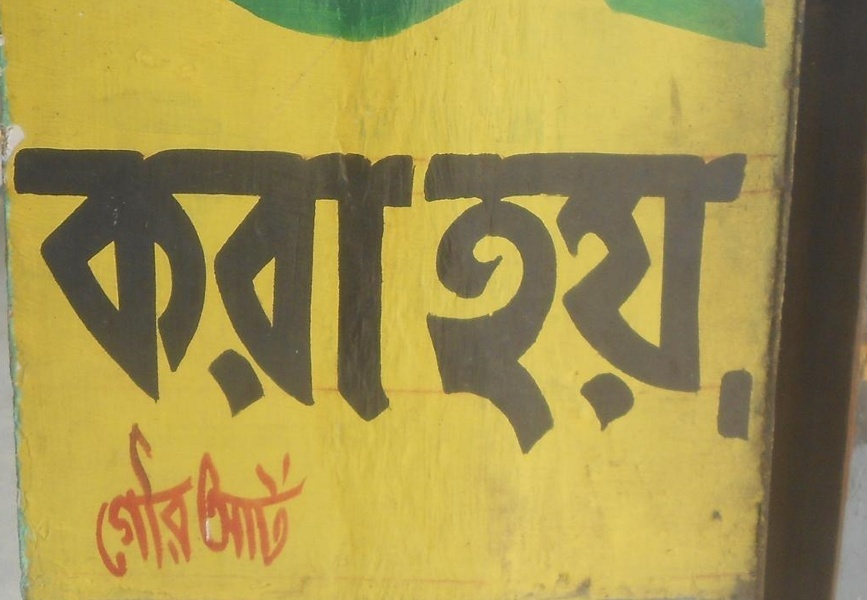text: (433, 145, 448, 463), (449, 145, 464, 463), (465, 145, 480, 463), (481, 145, 496, 463), (497, 145, 512, 463), (513, 145, 528, 463), (529, 145, 544, 463), (545, 145, 560, 463), (561, 145, 576, 463), (577, 145, 592, 463), (593, 145, 608, 463), (609, 145, 624, 463), (625, 145, 640, 463), (641, 145, 656, 463), (657, 145, 672, 463), (673, 145, 688, 463), (689, 145, 704, 463), (705, 145, 720, 463), (721, 145, 736, 463), (737, 145, 752, 463), (17, 146, 32, 427), (33, 146, 48, 427), (49, 146, 64, 427), (65, 146, 80, 427), (81, 146, 96, 427), (97, 146, 112, 427), (113, 146, 128, 427), (129, 146, 144, 427), (145, 146, 160, 427), (161, 146, 176, 427), (177, 146, 192, 427), (193, 146, 208, 427), (209, 146, 224, 427), (225, 146, 240, 427), (241, 146, 256, 427), (257, 146, 272, 427), (273, 146, 288, 427), (289, 146, 304, 427), (305, 146, 320, 427), (321, 146, 336, 427), (337, 146, 352, 427), (353, 146, 368, 427), (369, 146, 384, 427), (385, 146, 400, 427), (401, 146, 416, 427), (424, 145, 432, 463), (113, 422, 128, 583), (129, 422, 144, 583), (145, 422, 160, 583), (161, 422, 176, 583), (177, 422, 192, 583), (753, 145, 760, 463), (193, 446, 208, 573), (209, 446, 224, 573), (225, 446, 240, 573), (241, 446, 256, 573), (257, 446, 272, 573), (273, 446, 288, 573), (289, 446, 304, 573), (101, 422, 112, 583), (10, 146, 16, 427), (417, 146, 421, 427), (225, 1, 240, 60), (241, 1, 256, 60), (257, 1, 272, 60), (273, 1, 288, 60), (289, 1, 304, 60), (305, 1, 320, 60), (321, 1, 336, 60), (337, 1, 352, 60), (353, 1, 368, 60), (369, 1, 384, 60), (385, 1, 400, 60), (401, 1, 416, 60), (417, 1, 432, 60), (433, 1, 448, 60), (449, 1, 464, 60), (577, 1, 592, 53), (593, 1, 608, 53), (609, 1, 624, 53), (625, 1, 640, 53), (641, 1, 656, 53), (657, 1, 672, 53), (673, 1, 688, 53), (689, 1, 704, 53), (705, 1, 720, 53), (721, 1, 736, 53), (737, 1, 752, 53), (753, 1, 768, 53), (193, 422, 197, 583), (769, 1, 780, 53), (465, 1, 474, 60), (305, 446, 309, 573), (216, 1, 224, 60), (574, 1, 576, 53)
